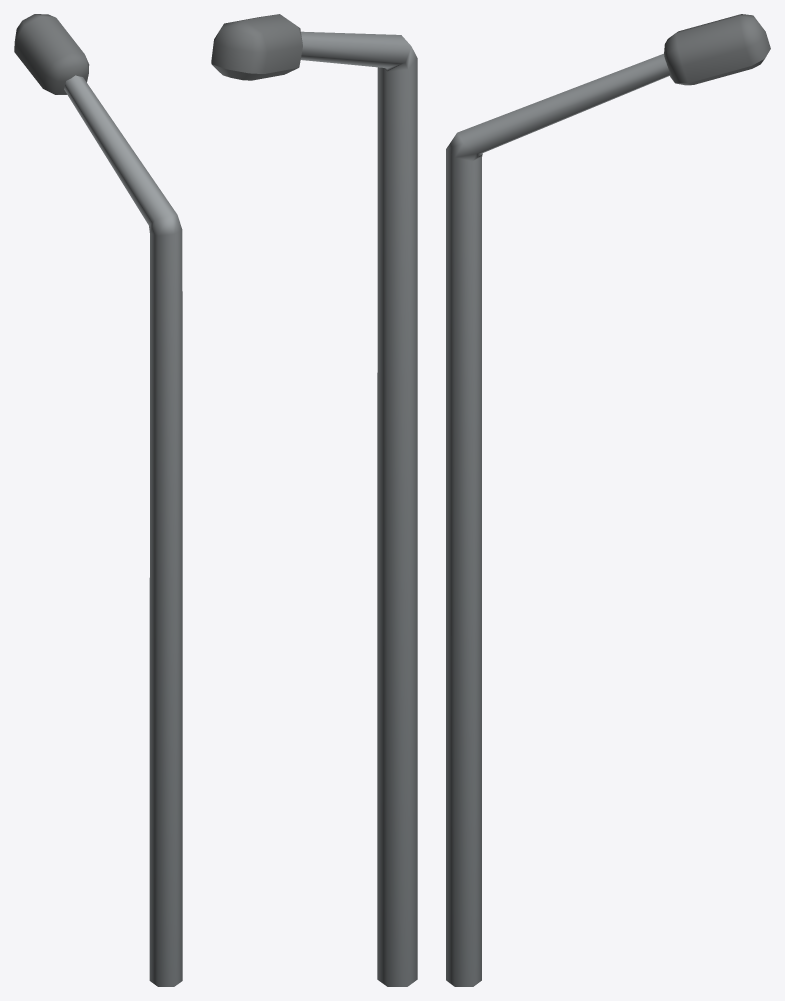
File: RoadLamp.fbx
3 views of the same model, side by side, from view 1: azimuth 30°, elevation 25°; view 2: azimuth 150°, elevation 25°; view 3: azimuth 270°, elevation 25° (orthographic). The views are drawn at different scales.
Parts seen in each view (by area): view 1: RoadLamp; view 2: RoadLamp; view 3: RoadLamp.
Boxes of the visible parts, left/top/right/bottom form: RoadLamp: left=14, top=14, right=182, bottom=986; RoadLamp: left=211, top=14, right=417, bottom=986; RoadLamp: left=446, top=14, right=770, bottom=986.
Bounding box in the file's own units: 0.0742 × 1.41 × 0.4307.
